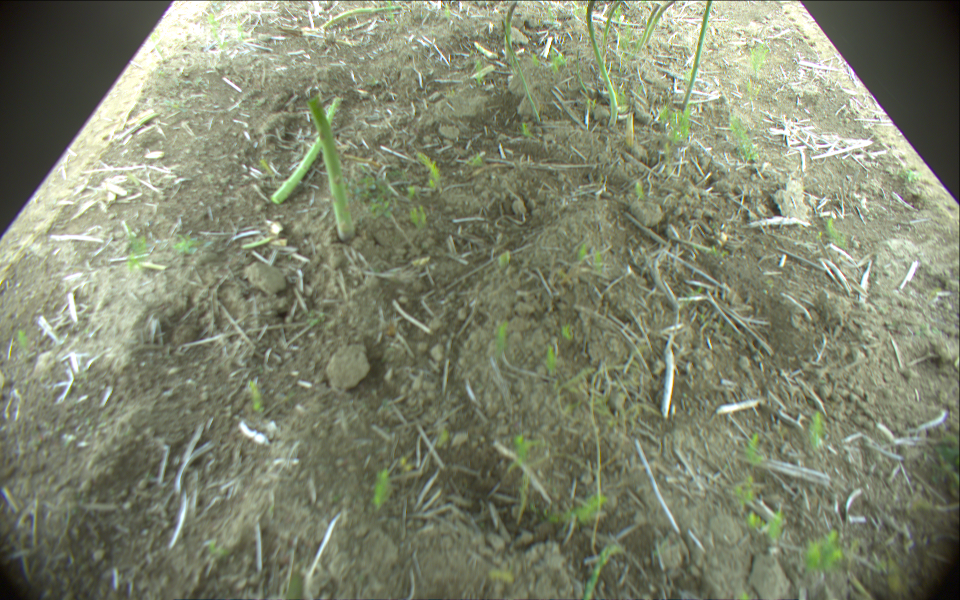aspa: (272, 96, 342, 205), (307, 95, 354, 239), (503, 1, 542, 124), (585, 1, 619, 126), (679, 1, 711, 116), (319, 3, 401, 30), (646, 1, 675, 43), (637, 1, 660, 53), (602, 1, 621, 59)
